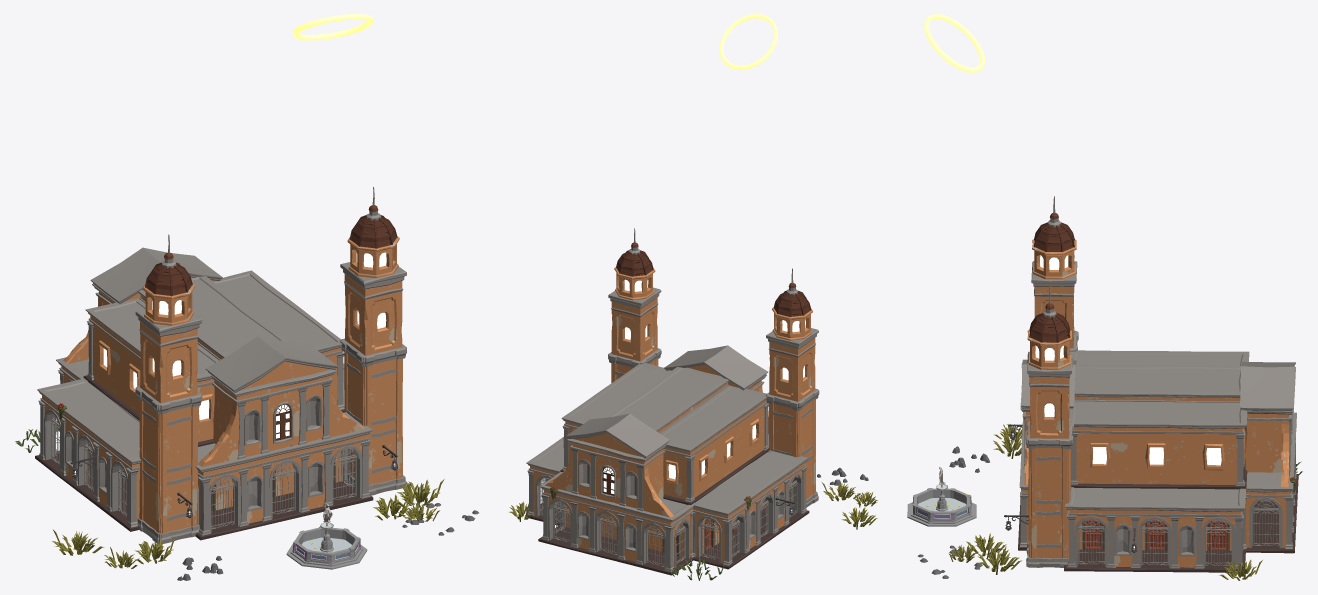
The model's file is statues.glb.
3 views of the same model, side by side, from view 1: azimuth 30°, elevation 25°; view 2: azimuth 150°, elevation 25°; view 3: azimuth 270°, elevation 25° (orthographic). The views are drawn at different scales.
Parts seen in each view (by area): view 1: SM_Bld_Cuba_Hall_Tower_02, SM_Bld_Cuba_Hall_Tower_01, SM_Bld_Cuba_Hall_Front_01, SM_Bld_Cuba_Hall_Room_04_1, SM_Bld_Cuba_Hall_Room_05, SM_Bld_Cuba_Hall_Room_02, SM_Bld_Cuba_Hall_Room_01, SM_Bld_Cuba_Hall_Room_02_1, SM_Bld_Cuba_Hall_Front_01_1, Fountain, halo, SM_Env_Grass_02_5 (+1 smaller); view 2: SM_Bld_Cuba_Hall_Room_05, SM_Bld_Cuba_Hall_Room_05_1, SM_Bld_Cuba_Hall_Room_02, SM_Bld_Cuba_Hall_Front_01_1, SM_Bld_Cuba_Hall_Tower_02, SM_Bld_Cuba_Hall_Tower_01, SM_Bld_Cuba_Hall_Room_02_1, SM_Bld_Cuba_Hall_Room_01, SM_Bld_Cuba_Hall_Front_01, SM_Bld_Cuba_Hall_Room_04, halo; view 3: SM_Bld_Cuba_Hall_Room_01, SM_Bld_Cuba_Hall_Room_04, SM_Bld_Cuba_Hall_Tower_01, SM_Bld_Cuba_Hall_Room_02_1, SM_Bld_Cuba_Hall_Front_01_1, SM_Bld_Cuba_Hall_Room_05_1, SM_Bld_Cuba_Hall_Tower_02, SM_Bld_Cuba_Hall_Room_02, Fountain, SM_Bld_Cuba_Hall_Front_01, halo, SM_Bld_Cuba_Hall_Room_04_1 (+1 smaller).
Part boxes in pixels (x1=…): SM_Bld_Cuba_Hall_Tower_02: x1=135, y1=234, x2=202, y2=543; SM_Bld_Cuba_Hall_Tower_01: x1=340, y1=187, x2=406, y2=495; SM_Bld_Cuba_Hall_Front_01: x1=198, y1=336, x2=364, y2=466; SM_Bld_Cuba_Hall_Room_04_1: x1=195, y1=412, x2=373, y2=540; SM_Bld_Cuba_Hall_Room_05: x1=35, y1=379, x2=141, y2=531; SM_Bld_Cuba_Hall_Room_02: x1=83, y1=298, x2=219, y2=446; SM_Bld_Cuba_Hall_Room_01: x1=212, y1=270, x2=345, y2=412; SM_Bld_Cuba_Hall_Room_02_1: x1=138, y1=276, x2=290, y2=360; SM_Bld_Cuba_Hall_Front_01_1: x1=63, y1=247, x2=222, y2=363; Fountain: x1=286, y1=520, x2=367, y2=569; halo: x1=292, y1=14, x2=373, y2=40; SM_Env_Grass_02_5: x1=395, y1=479, x2=444, y2=507; SM_Bld_Cuba_Hall_Room_05: x1=692, y1=450, x2=809, y2=569; SM_Bld_Cuba_Hall_Room_05_1: x1=538, y1=472, x2=696, y2=575; SM_Bld_Cuba_Hall_Room_02: x1=660, y1=385, x2=769, y2=504; SM_Bld_Cuba_Hall_Front_01_1: x1=545, y1=413, x2=673, y2=517; SM_Bld_Cuba_Hall_Tower_02: x1=765, y1=268, x2=819, y2=508; SM_Bld_Cuba_Hall_Tower_01: x1=608, y1=228, x2=661, y2=382; SM_Bld_Cuba_Hall_Room_02_1: x1=604, y1=367, x2=728, y2=433; SM_Bld_Cuba_Hall_Room_01: x1=560, y1=363, x2=671, y2=471; SM_Bld_Cuba_Hall_Front_01: x1=664, y1=345, x2=768, y2=434; SM_Bld_Cuba_Hall_Room_04: x1=525, y1=437, x2=563, y2=525; halo: x1=719, y1=14, x2=778, y2=69; SM_Bld_Cuba_Hall_Room_01: x1=1069, y1=401, x2=1247, y2=489; SM_Bld_Cuba_Hall_Room_04: x1=1064, y1=487, x2=1246, y2=572; SM_Bld_Cuba_Hall_Tower_01: x1=1025, y1=286, x2=1074, y2=567; SM_Bld_Cuba_Hall_Room_02_1: x1=1074, y1=364, x2=1240, y2=402; SM_Bld_Cuba_Hall_Front_01_1: x1=1240, y1=361, x2=1295, y2=487; SM_Bld_Cuba_Hall_Room_05_1: x1=1243, y1=412, x2=1298, y2=553; SM_Bld_Cuba_Hall_Tower_02: x1=1031, y1=196, x2=1078, y2=351; SM_Bld_Cuba_Hall_Room_02: x1=1070, y1=350, x2=1249, y2=365; Fountain: x1=907, y1=482, x2=976, y2=526; SM_Bld_Cuba_Hall_Front_01: x1=1020, y1=359, x2=1076, y2=484; halo: x1=924, y1=14, x2=984, y2=72; SM_Bld_Cuba_Hall_Room_04_1: x1=1018, y1=417, x2=1074, y2=550.
Bounding box in the file's own units: 24.31 × 34.25 × 24.73.
Materials: 11 (3 with a texture image).
